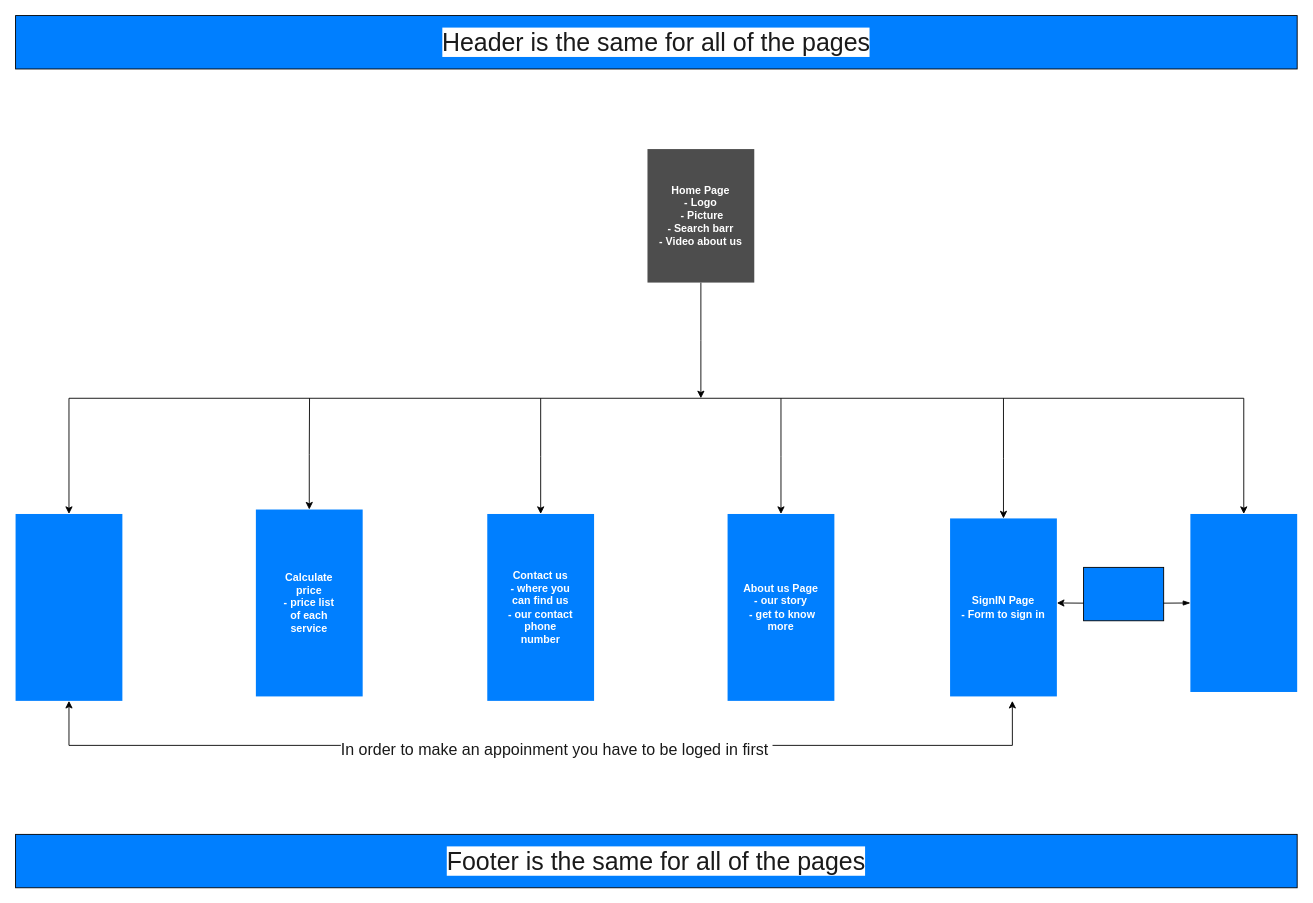
Some shapes in this 1313 by 903 pixel diagram are drawn without their labels. The centre of each missing label's shape, as x and y in pixels:
"Appointment Page - One Form or make your appointment" belongs at [68,607].
"If you don't have an account" belongs at [1123,593].
"SignUp Page - Form to sign up" belongs at [1243,603].
